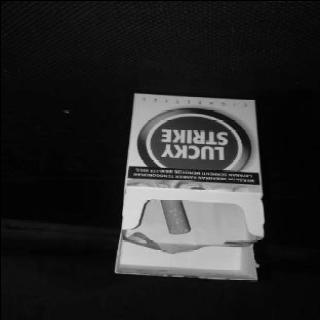objects: (114, 91, 263, 282)
